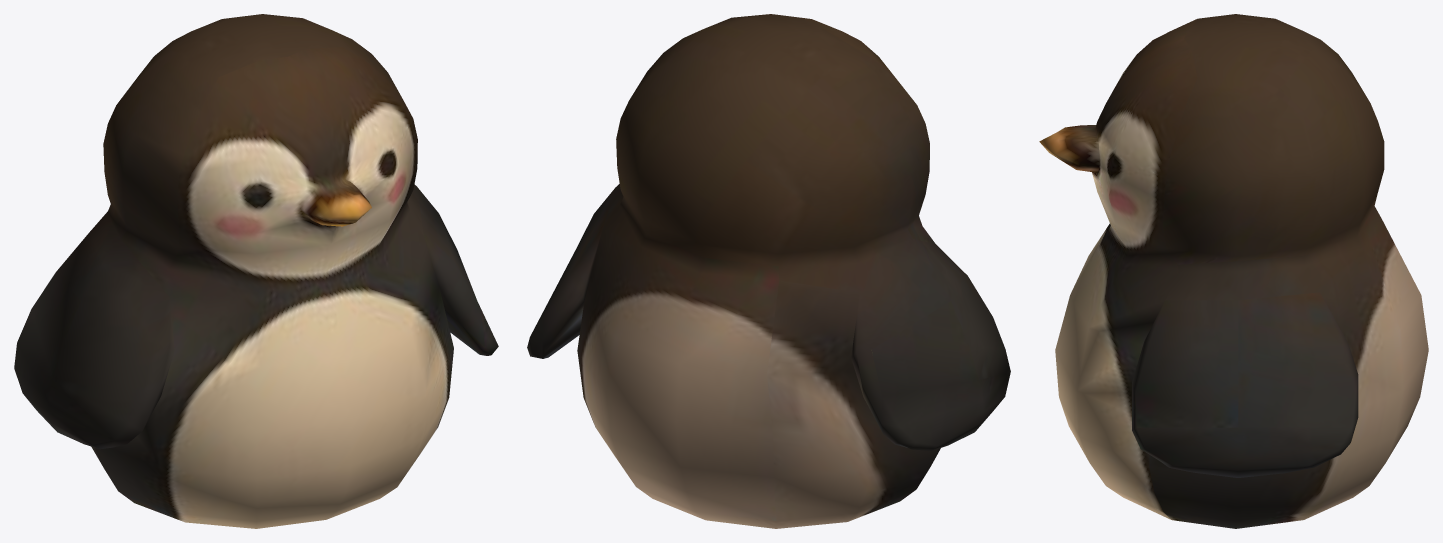
The model's file is penguin-08-43-chubby-round-kokeshi-penguin.gltf.
The picture shows the model from 3 angles, left to right: view 1: azimuth 30°, elevation 25°; view 2: azimuth 150°, elevation 25°; view 3: azimuth 270°, elevation 25°; orthographic projection.
Parts seen in each view (by area): view 1: penguin-08-43-chubby-round-kokeshi-penguin; view 2: penguin-08-43-chubby-round-kokeshi-penguin; view 3: penguin-08-43-chubby-round-kokeshi-penguin.
Part boxes in pixels (x1,y1,x2,y2): penguin-08-43-chubby-round-kokeshi-penguin: (14,14,498,528); penguin-08-43-chubby-round-kokeshi-penguin: (527,14,1010,528); penguin-08-43-chubby-round-kokeshi-penguin: (1039,14,1428,528).
Size of the model in its own units: 0.2 by 0.2067 by 0.1615.
1 material, 1 textured.
